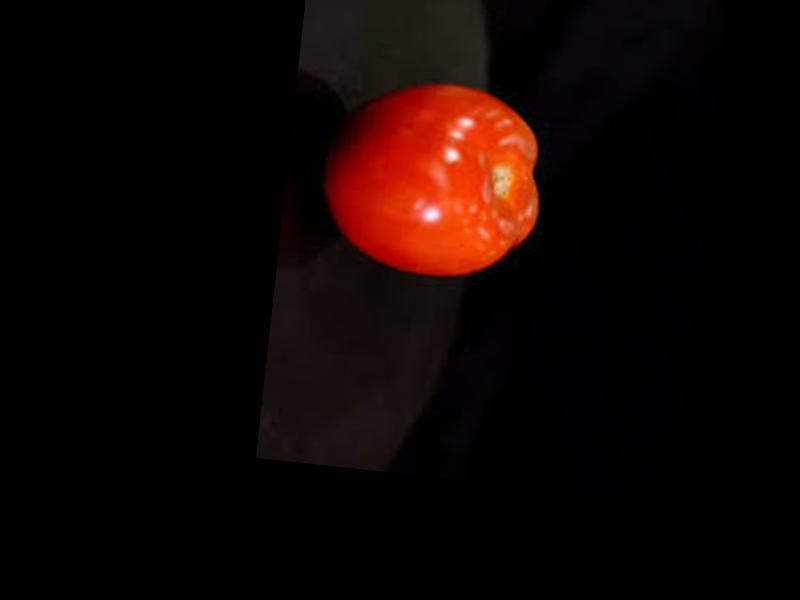Tomato: (314, 70, 554, 289)
